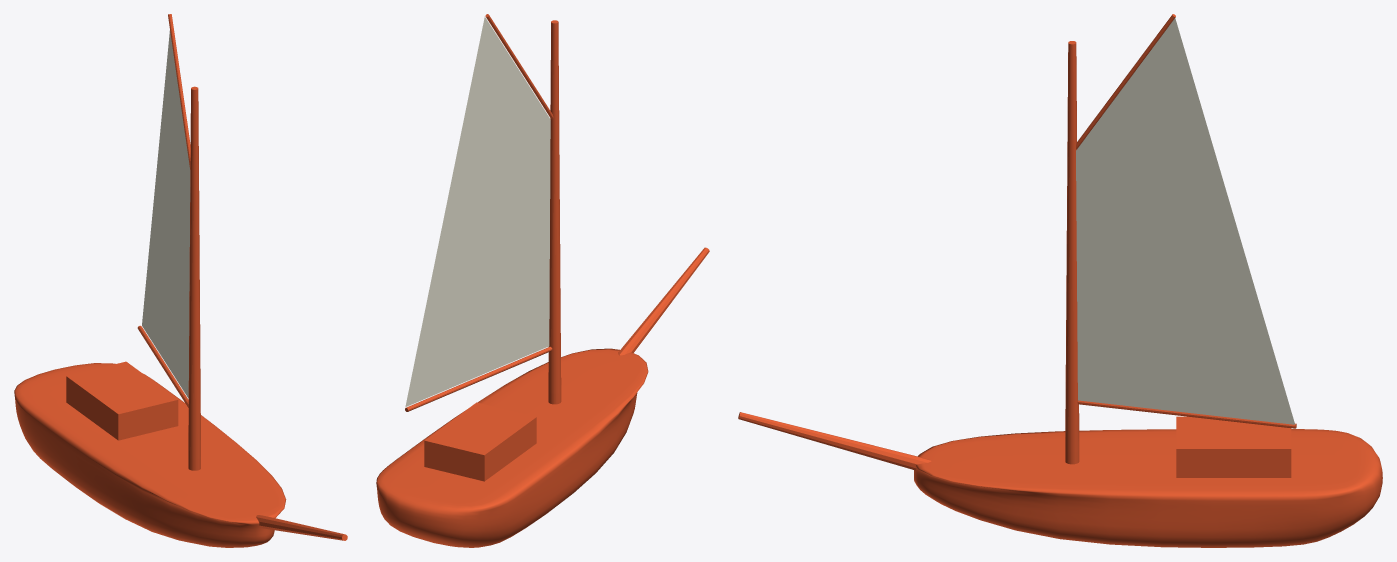
The model's file is sailship.glb.
3 views of the same model, side by side, from view 1: azimuth 30°, elevation 25°; view 2: azimuth 150°, elevation 25°; view 3: azimuth 270°, elevation 25° (orthographic). The views are drawn at different scales.
Visible parts, largest first — view 1: Hull, Main_sail, Capitan_cabin, Main_mast, Main_boom, Bow_sprit; view 2: Main_sail, Hull, Capitan_cabin, Main_mast, Main_boom, Bow_sprit; view 3: Main_sail, Hull, Capitan_cabin, Main_mast, Bow_sprit, Main_boom.
Part boxes in pixels (x1,y1,x2,y2): Hull: (14,363,286,547); Main_sail: (142,31,190,398); Capitan_cabin: (66,361,178,440); Main_mast: (188,86,200,470); Main_boom: (137,14,190,407); Bow_sprit: (256,515,347,540); Main_sail: (405,16,550,406); Hull: (376,348,648,547); Capitan_cabin: (424,402,536,481); Main_mast: (548,20,561,404); Main_boom: (405,14,553,411); Bow_sprit: (618,247,709,355); Main_sail: (1076,18,1295,424); Hull: (914,429,1382,547); Capitan_cabin: (1176,416,1291,477); Main_mast: (1065,41,1079,464); Bow_sprit: (738,412,931,470); Main_boom: (1076,14,1296,428).
Size of the model in its own units: 4.23 by 15.21 by 16.87.
